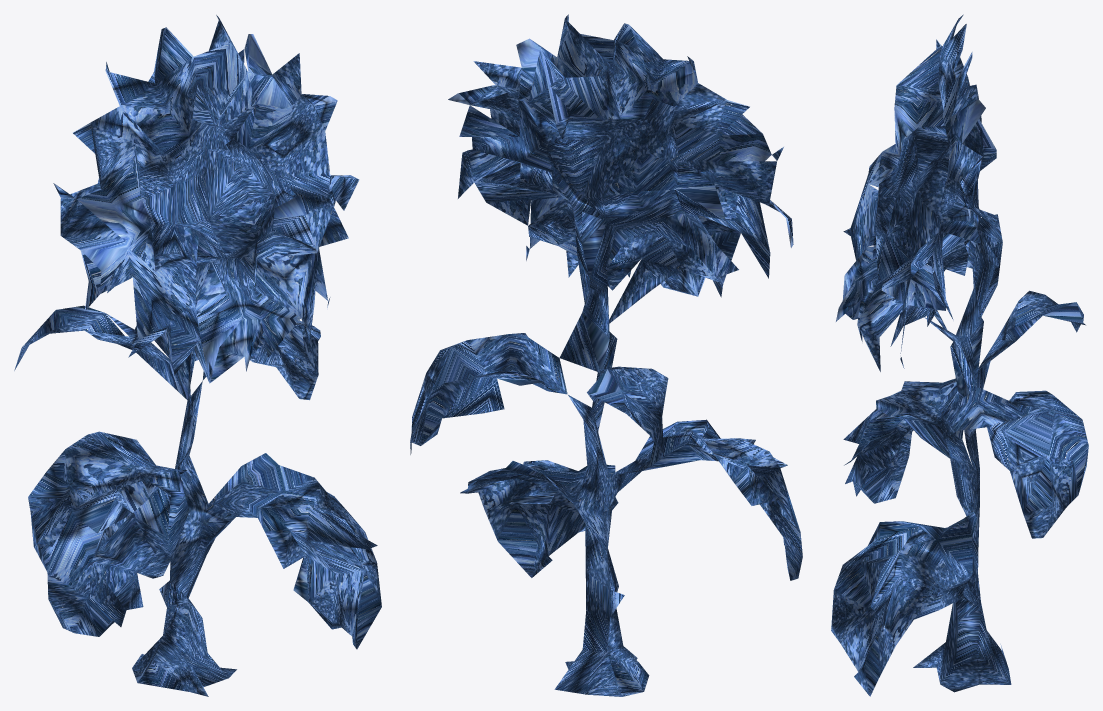
File: sunflower.glb
3 renders of one model, left to right at view 1: azimuth 30°, elevation 25°; view 2: azimuth 150°, elevation 25°; view 3: azimuth 270°, elevation 25°, orthographic. The views are drawn at different scales.
Bounding box in the file's own units: 0.9876 × 1.87 × 0.6841.
1 material, 1 textured.
